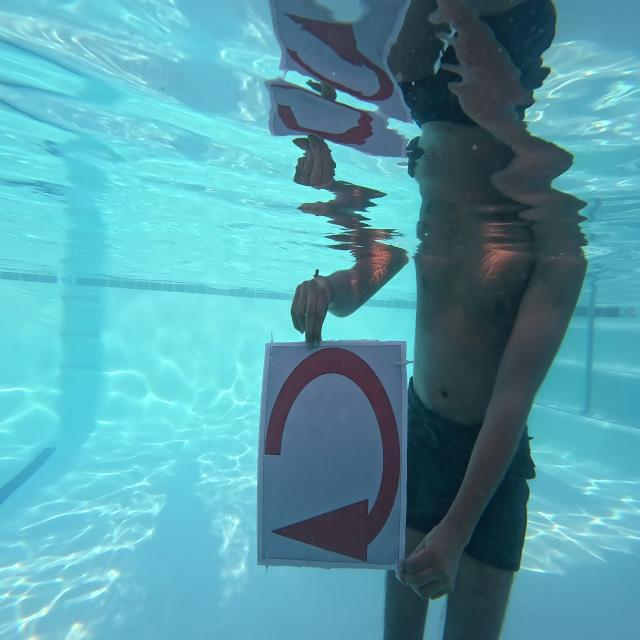red_side: (260, 335, 405, 576)
